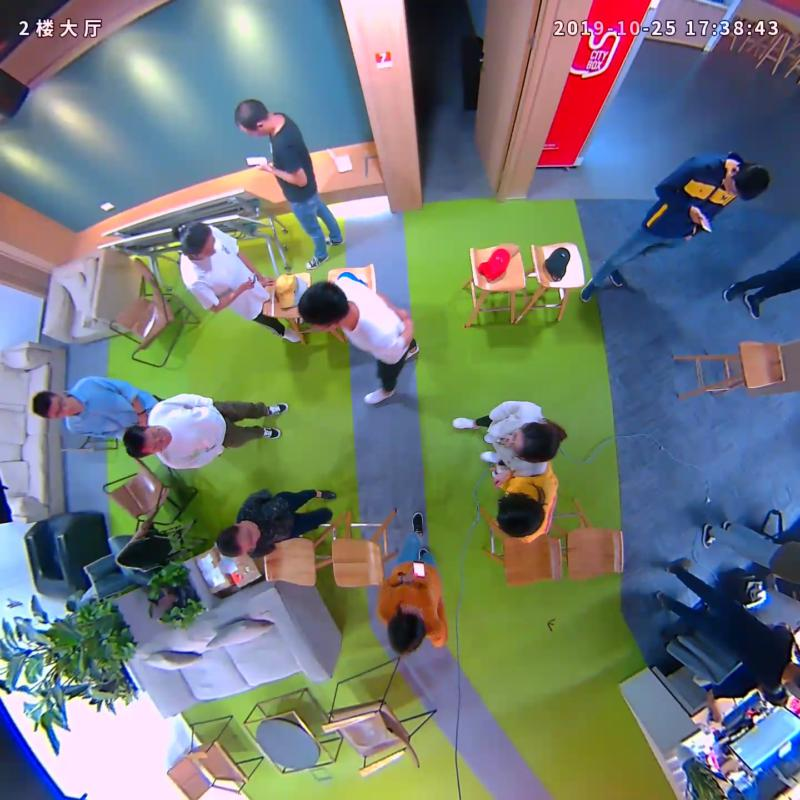head: (297, 281, 349, 331), (496, 492, 545, 538), (508, 421, 559, 464), (387, 607, 427, 656), (722, 161, 771, 201), (122, 423, 170, 459), (177, 221, 217, 260), (217, 524, 260, 557), (234, 99, 272, 135), (33, 391, 75, 419)
